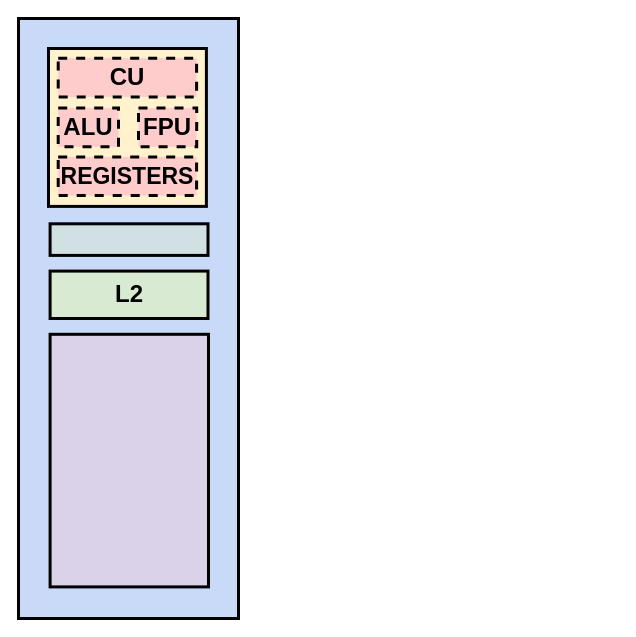
Image size: 636x637. Some labels were removed from this diagram. The shapes that lost their labels are listed below. From the top down, each one's centre as x and y in pixels, then its label:
(x=128, y=239): L1
(x=129, y=460): L3
